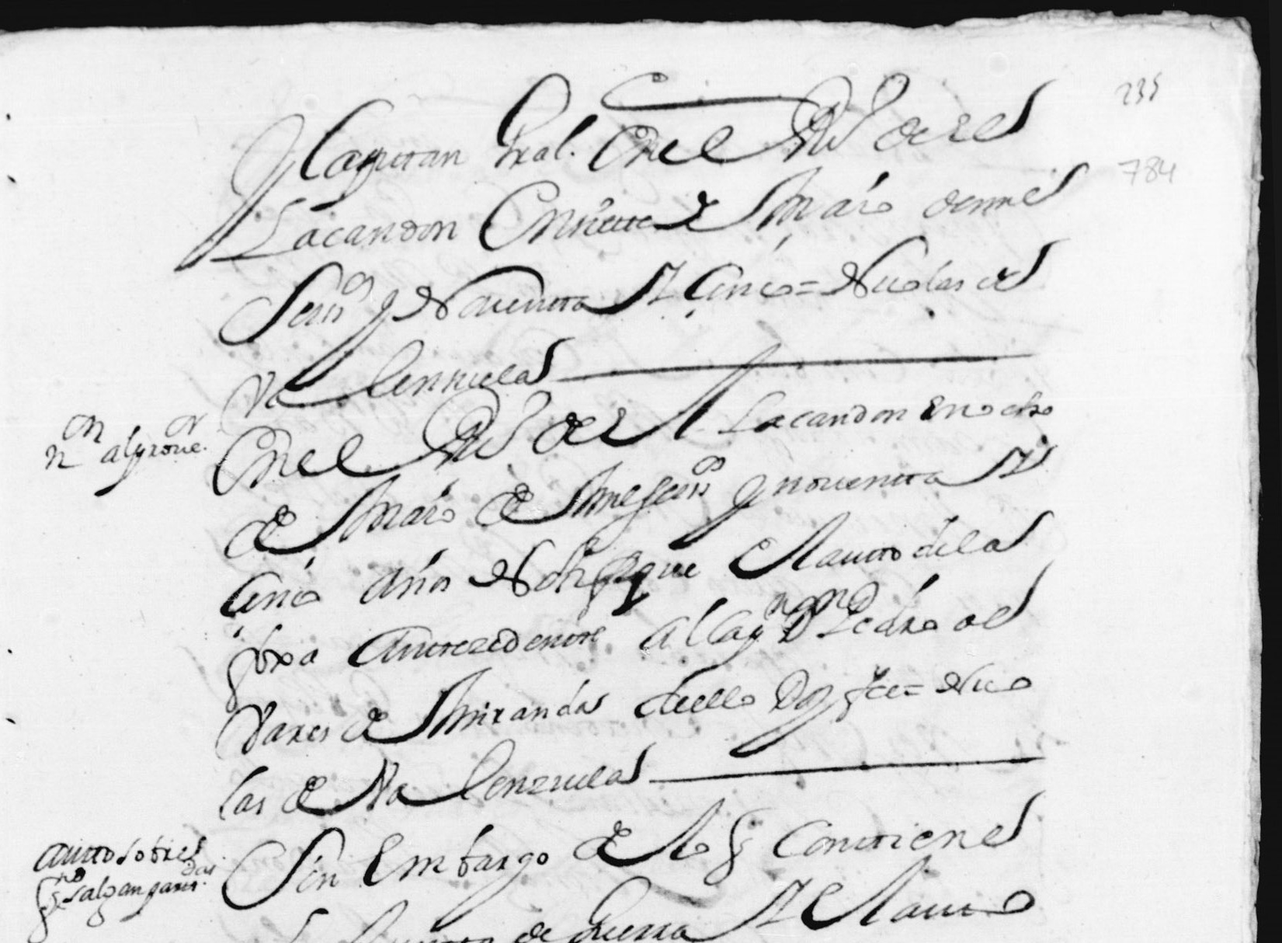lacandon: (210, 197, 457, 262), (717, 391, 907, 433)
